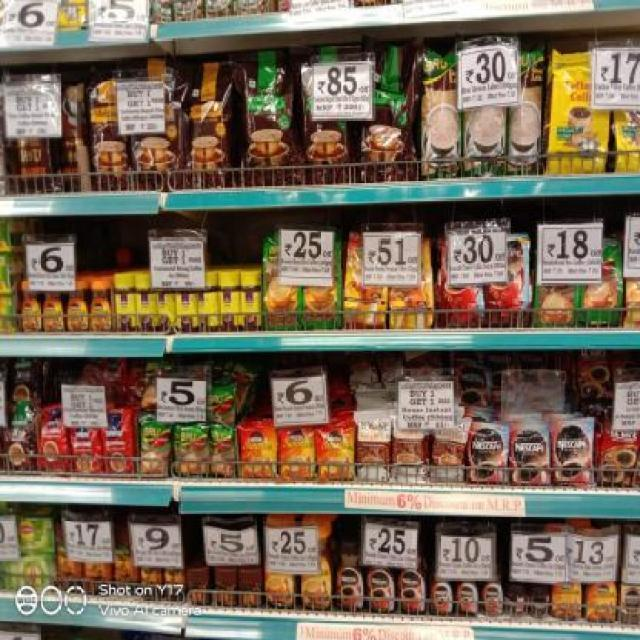Coffee: (486, 235, 529, 328), (390, 238, 433, 328), (439, 240, 484, 326), (345, 235, 386, 326), (263, 520, 296, 609), (300, 525, 334, 610), (552, 421, 594, 488), (585, 543, 616, 623), (510, 426, 551, 486), (552, 541, 582, 617), (468, 426, 507, 483), (396, 544, 428, 613), (365, 544, 396, 611), (316, 426, 354, 479), (240, 426, 278, 478), (338, 543, 365, 610), (279, 428, 315, 478), (456, 364, 490, 411), (429, 563, 454, 613), (457, 562, 480, 615), (482, 563, 504, 614), (621, 566, 640, 624), (67, 279, 88, 330), (21, 282, 40, 330), (42, 291, 64, 332), (92, 282, 110, 330), (528, 583, 551, 617), (506, 580, 526, 612)
